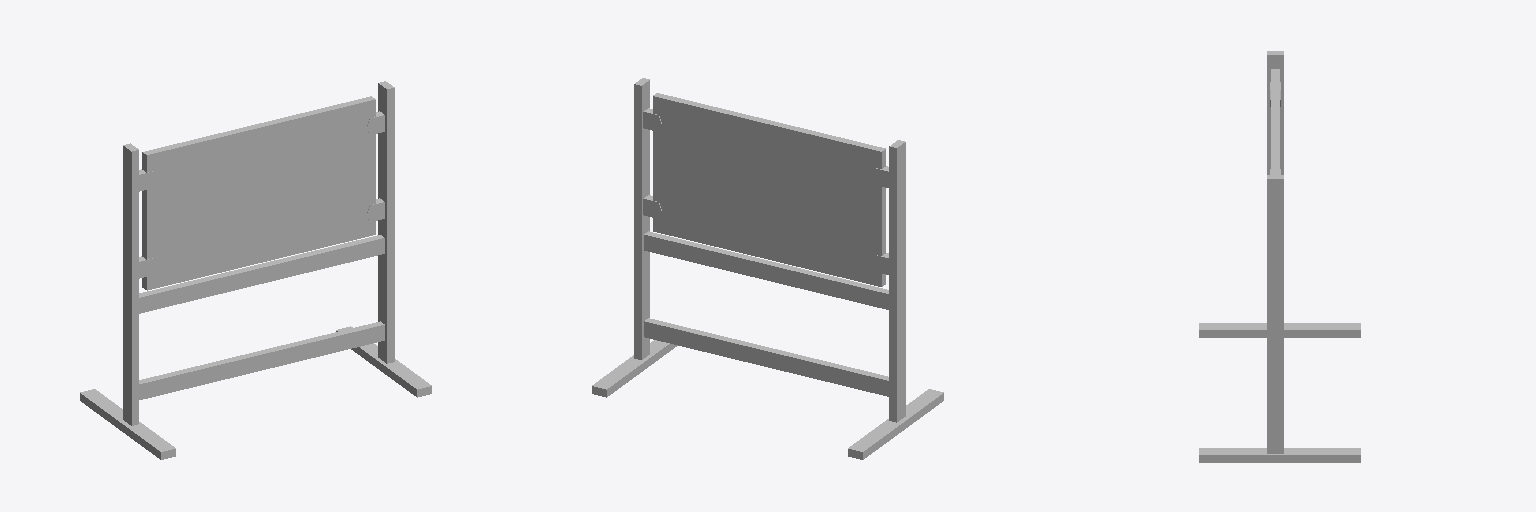
The model's file is SM_Pizarron.obj.
3 renders of one model, left to right at view 1: azimuth 30°, elevation 25°; view 2: azimuth 150°, elevation 25°; view 3: azimuth 270°, elevation 25°, orthographic.
Parts seen in each view (by area): view 1: Pizarron; view 2: Pizarron; view 3: Pizarron.
Boxes of the visible parts, <box> form: Pizarron: <box>80,81,431,459</box>; Pizarron: <box>592,78,943,459</box>; Pizarron: <box>1199,51,1360,462</box>.
Size of the model in its own units: 109 by 108 by 56.61.